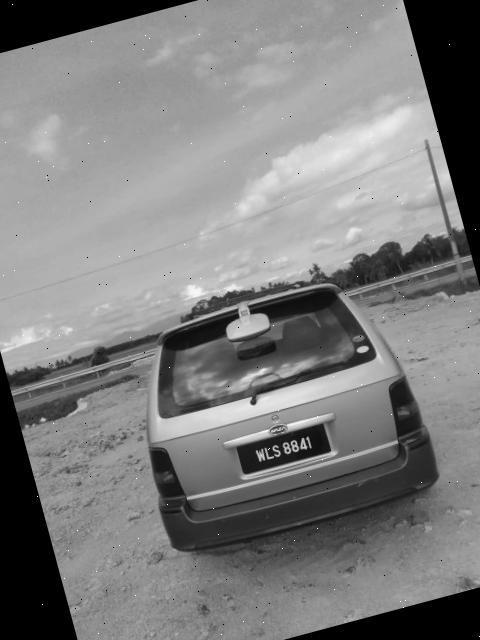License_Plate: (241, 426, 331, 479)
car: (107, 260, 446, 564)
